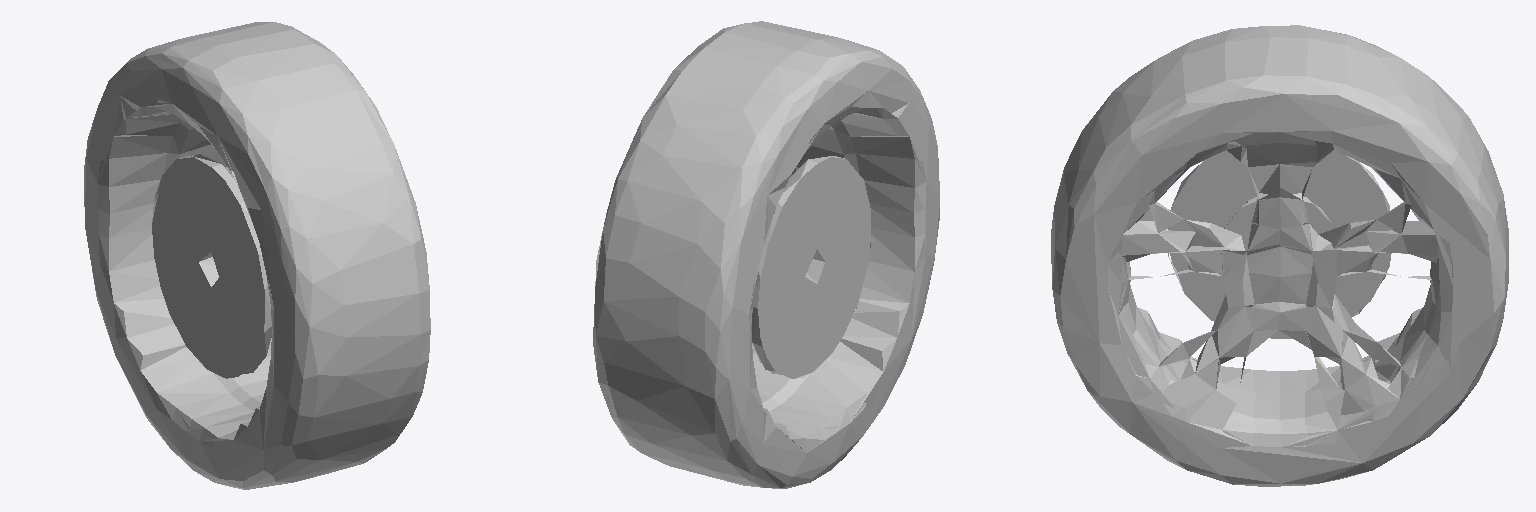
File: Car Wheel_decim.obj
The picture shows the model from 3 angles: view 1: azimuth 30°, elevation 25°; view 2: azimuth 150°, elevation 25°; view 3: azimuth 270°, elevation 25°; orthographic projection.
Size of the model in its own units: 0.2443 by 0.6849 by 0.6858.